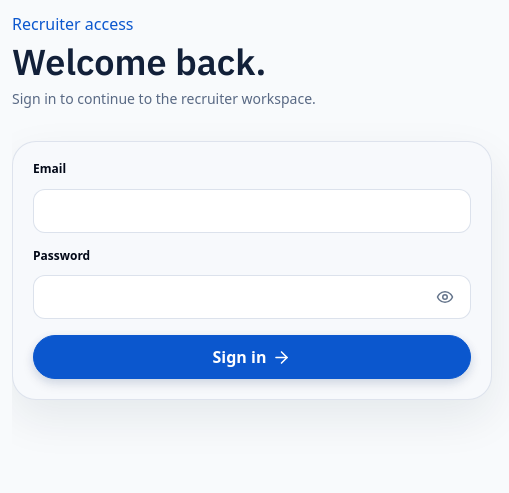
Test: RecruiterLoginExperience › restores sign-in after a recoverable failure
Type "recruiter@example.com" into the field labelled "Email" at [252, 211], box 33,189 -> 471,233
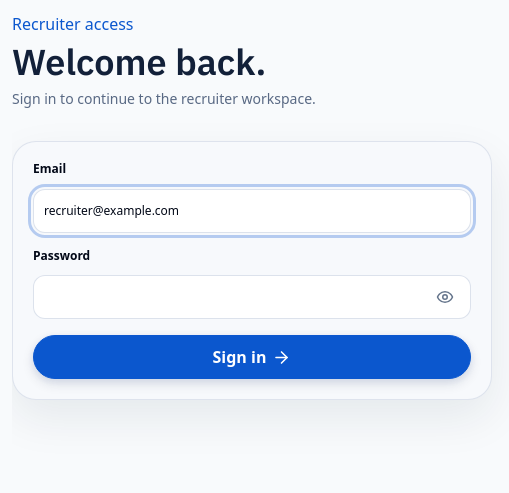
Type "incorrect-password" into the password field labelled "Password" at [252, 297], box 33,275 -> 471,319
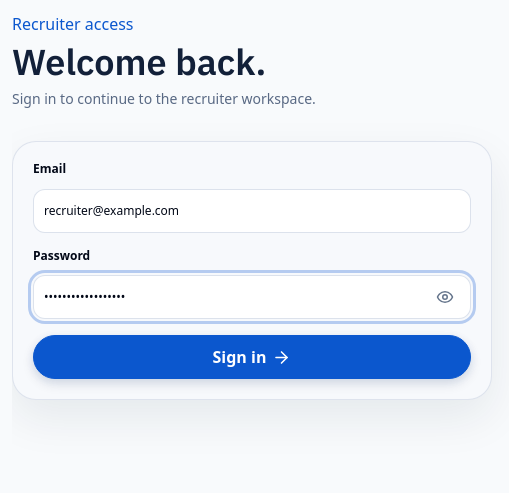
Click the button "Sign in" at [252, 357], box 33,335 -> 471,379
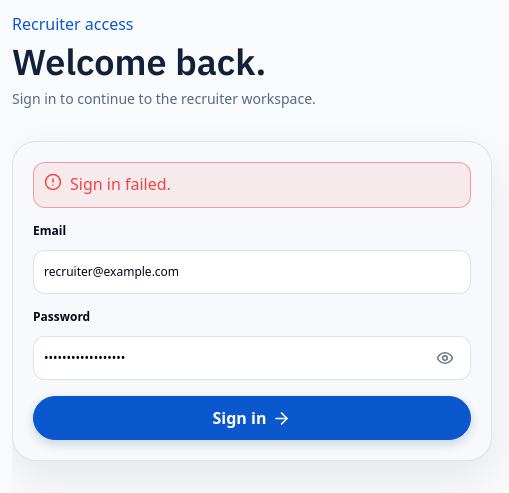
Expected: the button "Sign in" is enabled, 33,396 -> 471,440
Expected: the message reads "Sign in failed.", 70,173 -> 171,195
